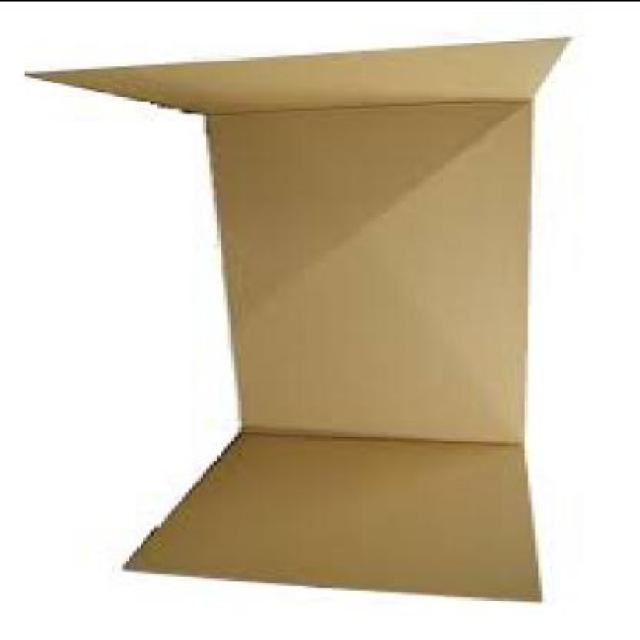CARDBOARD: (28, 40, 577, 603)
